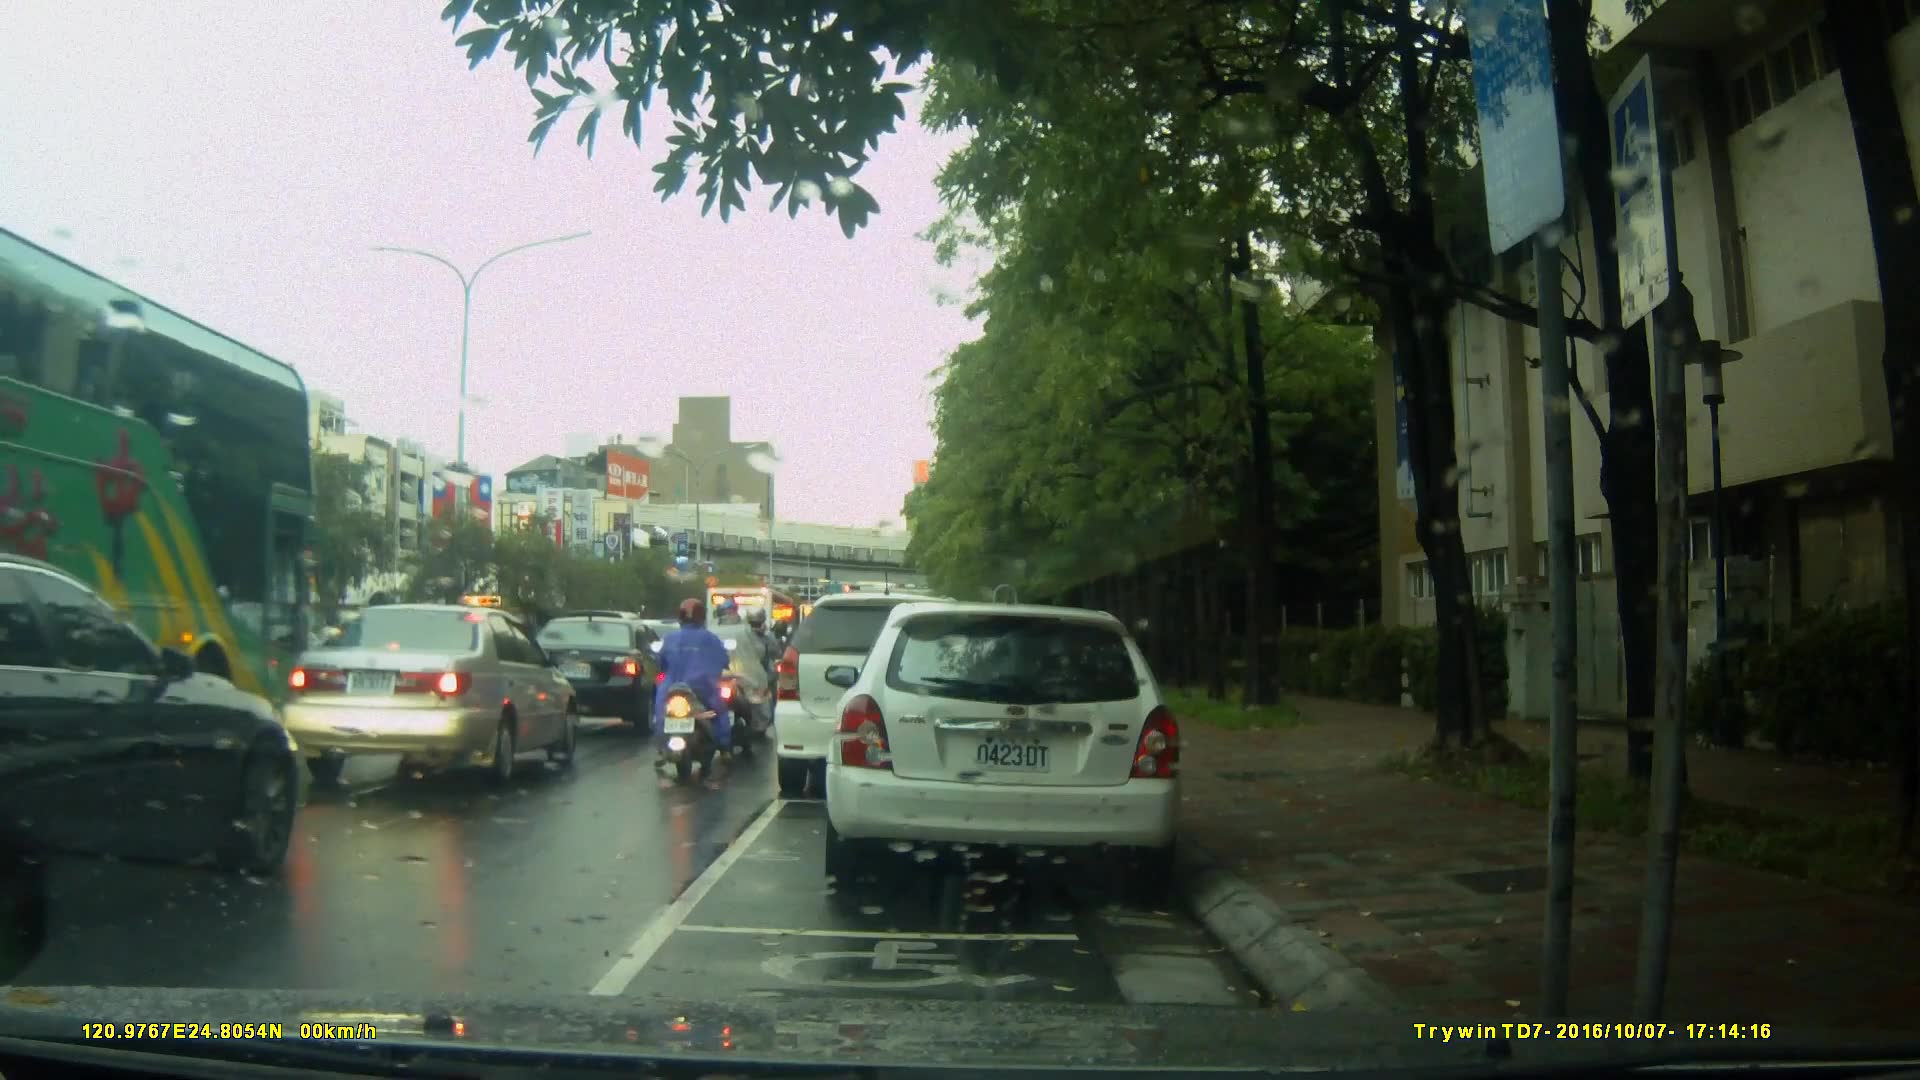rider: (637, 594, 731, 784), (706, 595, 773, 752)
vehicle: (1, 221, 358, 708), (831, 592, 1196, 897), (274, 601, 581, 793), (770, 592, 999, 799), (512, 614, 685, 734), (698, 583, 806, 706)
